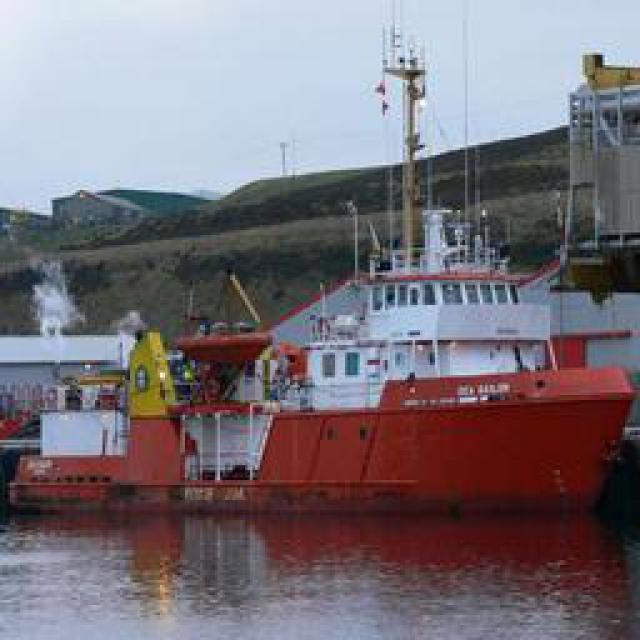Ship: (7, 16, 633, 528)
